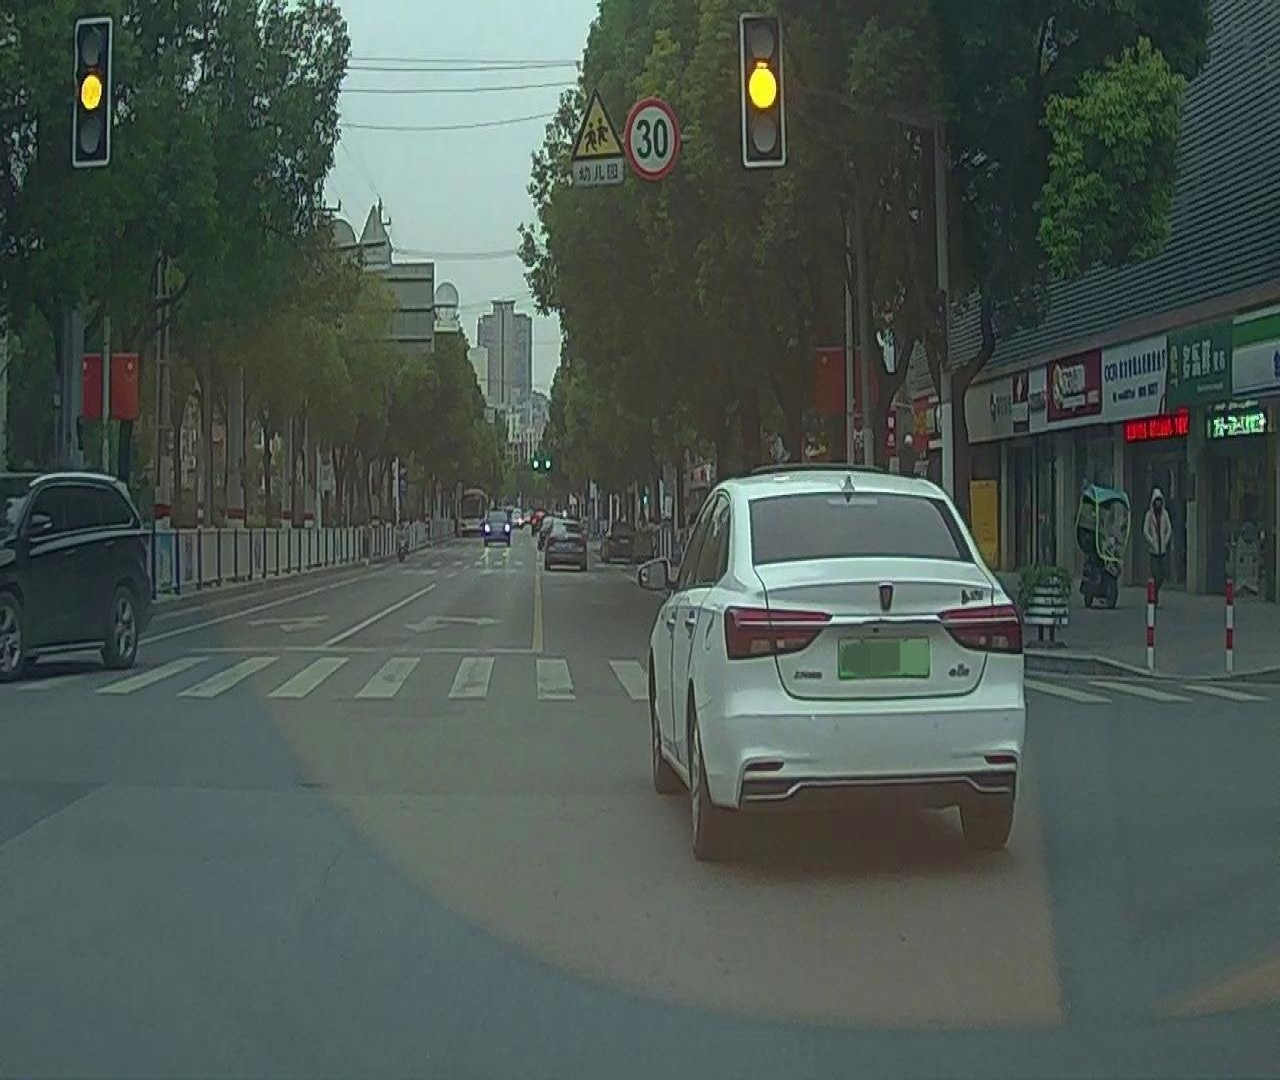yellow: (742, 15, 784, 162), (77, 22, 107, 160)
